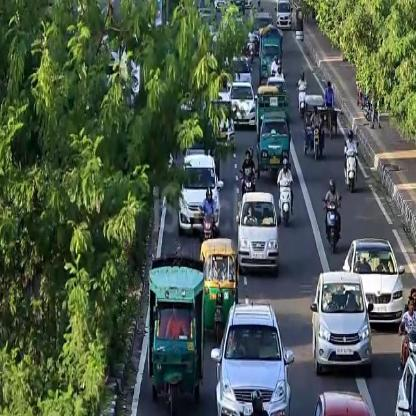auto-rikshaw: (148, 262, 204, 412), (200, 238, 238, 340), (344, 140, 358, 192)
bike: (321, 192, 343, 252), (276, 177, 294, 227), (197, 204, 219, 238), (238, 165, 256, 196), (310, 119, 322, 159)
car: (209, 296, 294, 414), (308, 268, 374, 380), (340, 235, 406, 329), (175, 150, 223, 238), (235, 188, 281, 278), (256, 108, 292, 178)
